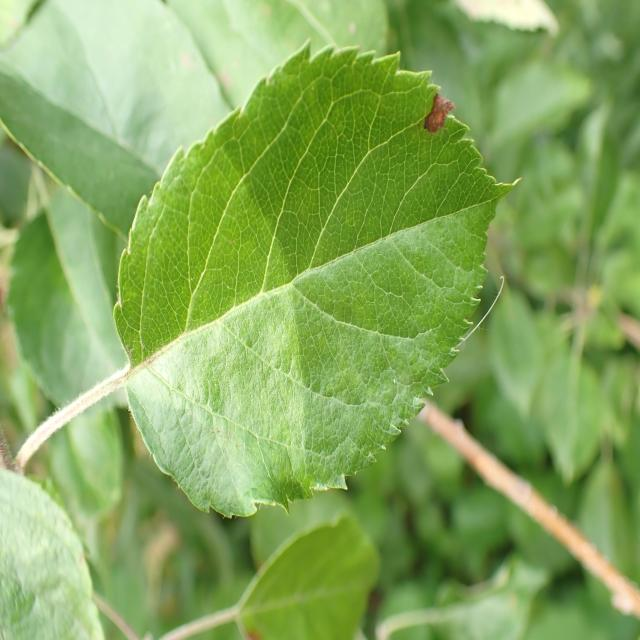frog-eye-leaf-spot: (113, 36, 526, 519)
